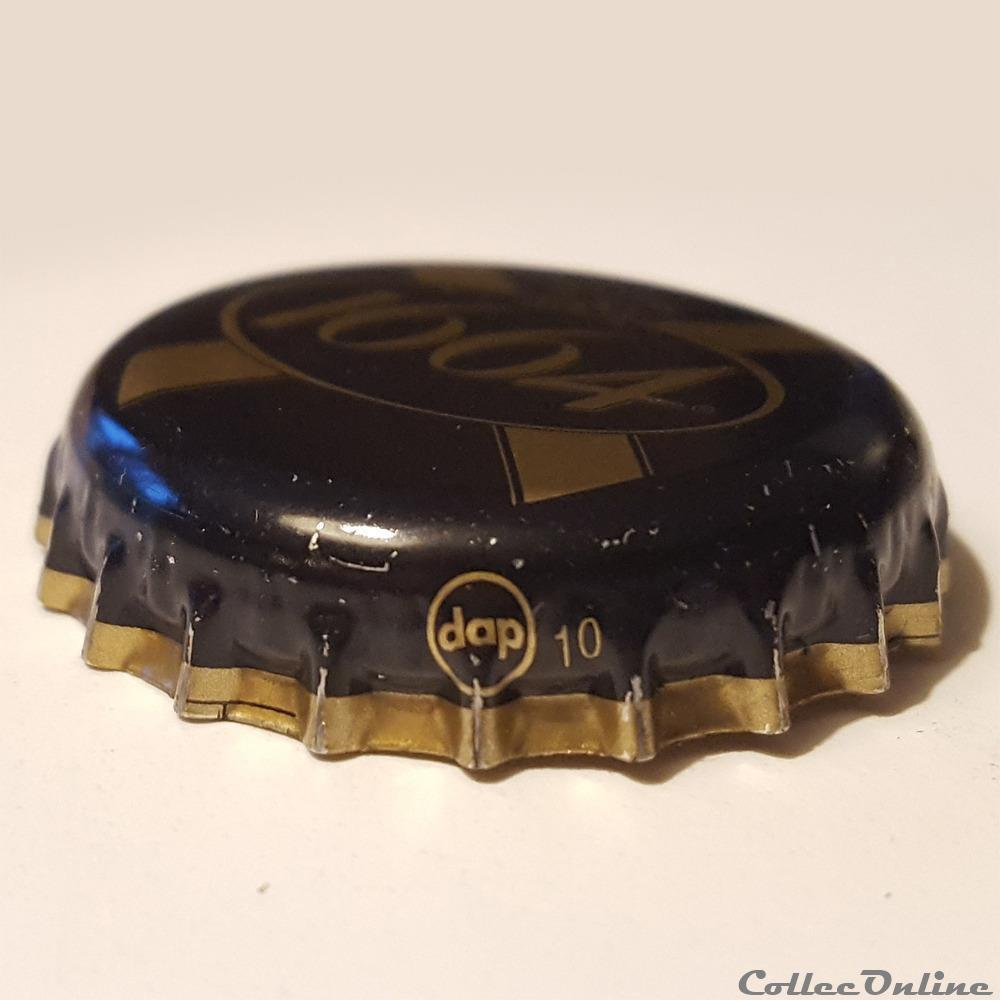metal: (38, 264, 948, 771)
